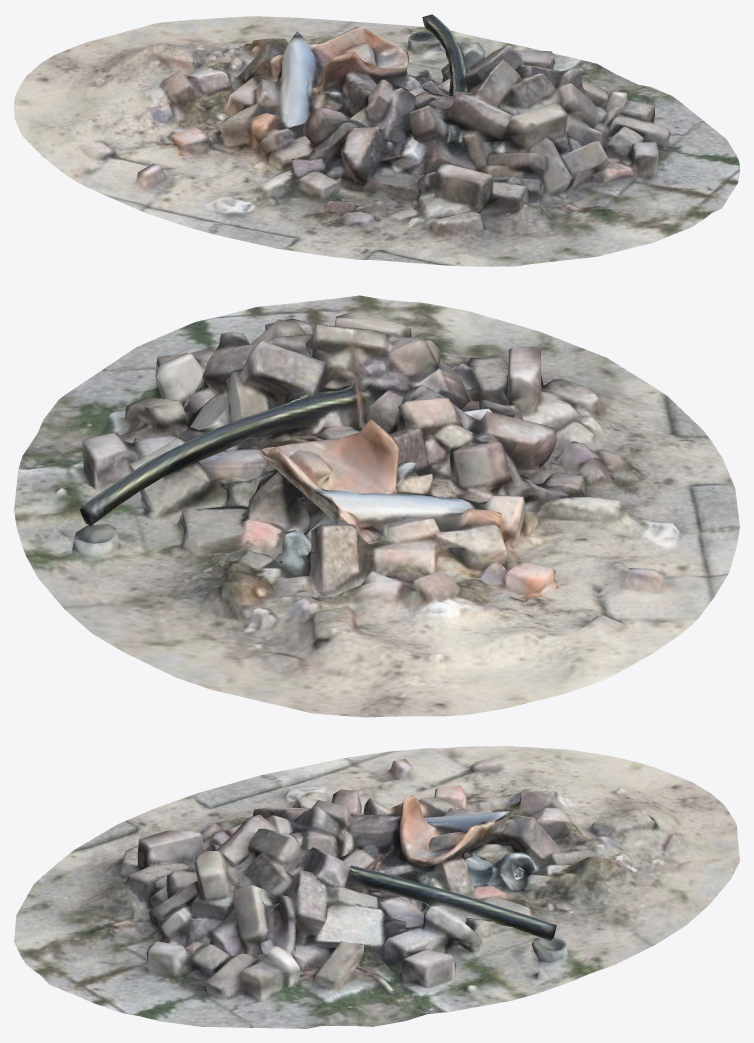
The model's file is bricks.glb.
The picture shows the model from 3 angles, top to bottom: view 1: azimuth 30°, elevation 25°; view 2: azimuth 150°, elevation 25°; view 3: azimuth 270°, elevation 25°; orthographic projection. The views are drawn at different scales.
Visible parts, largest first — view 1: merged; view 2: merged; view 3: merged.
Part boxes in pixels (box(x1,y1,x2,y2)): merged: box(14, 14, 739, 266); merged: box(14, 295, 739, 717); merged: box(14, 746, 739, 1028).
Bounding box in the file's own units: 1.81 × 0.31 × 2.
Materials: 1 (1 with a texture image).
